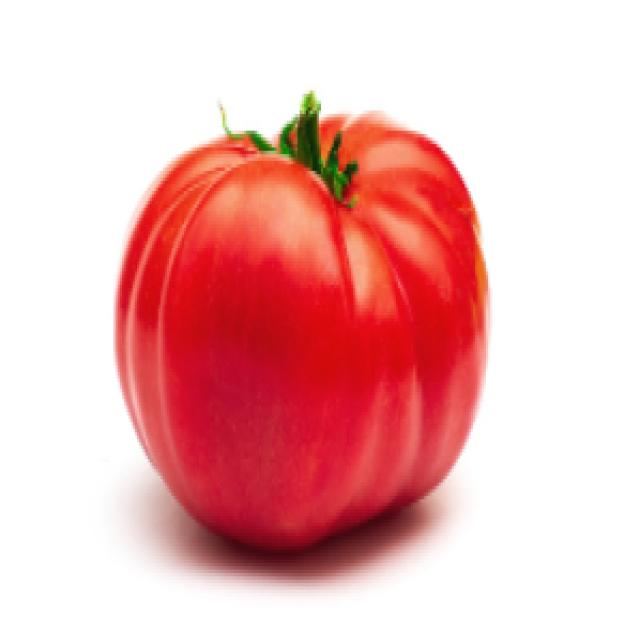Tomato: (120, 93, 499, 548)
